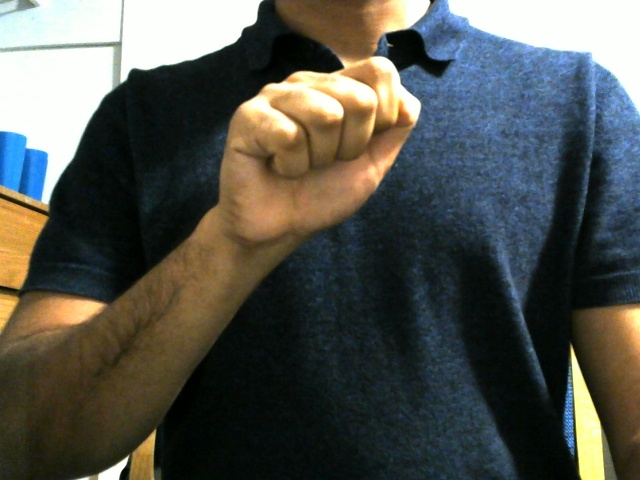A: (211, 46, 424, 243)
